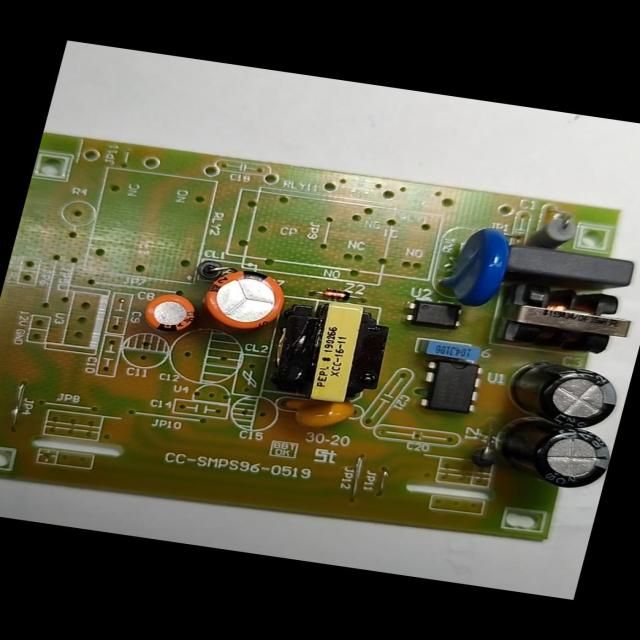Cap1: (195, 264, 292, 336)
Cap2: (136, 290, 198, 335)
Cap3: (500, 358, 627, 430)
Cap4: (485, 417, 616, 493)
MOSFET: (414, 358, 485, 418)
Mov: (427, 220, 516, 309)
Resistor: (521, 209, 578, 251)
Transformer: (260, 295, 396, 406), (493, 278, 639, 359)
